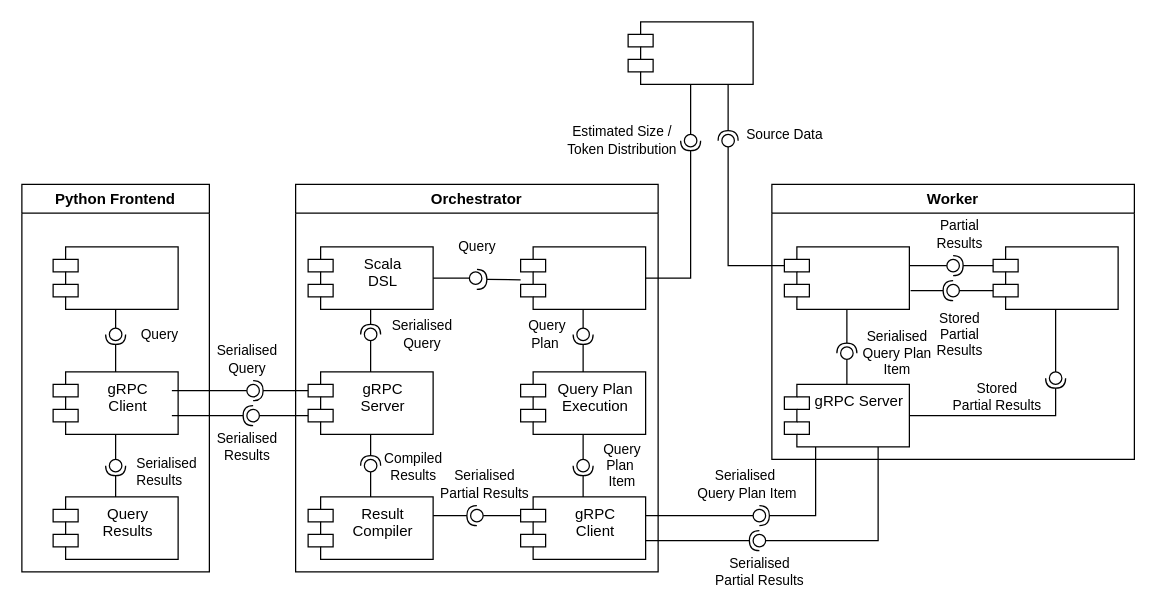
This 1156x610 diagram has some shape labels left out. The shapes that lost their labels are listed below. From the top down, each one's centre as x and y in pixels, then its label:
At point (690, 52): "Cassandra Database".
At point (115, 277): "Python DSL".
At point (582, 277): "Query Plan Generation".
At point (846, 277): "Query Plan Item Execution".
At point (1055, 277): "Data Store".
